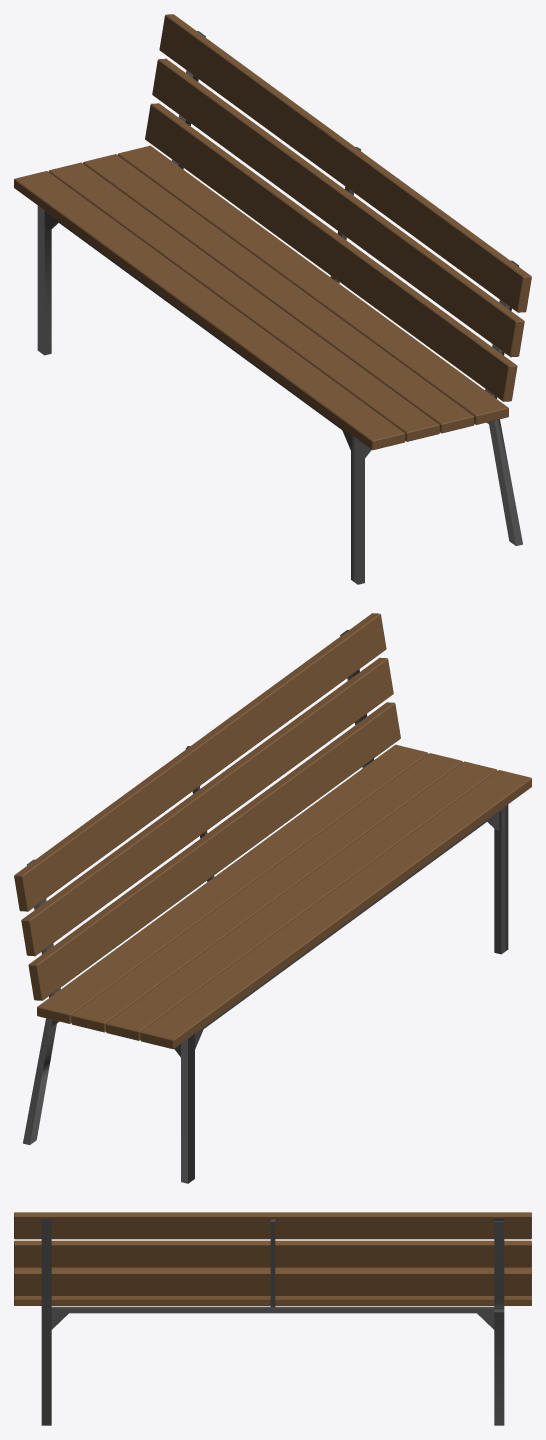
The picture shows the model from 3 angles, top to bottom: view 1: azimuth 30°, elevation 25°; view 2: azimuth 150°, elevation 25°; view 3: azimuth 270°, elevation 25°; orthographic projection. The views are drawn at different scales.
Parts seen in each view (by area): view 1: B_04_1; view 2: B_04_1; view 3: B_04_1.
Part boxes in pixels (x1,y1,x2,y2): B_04_1: (14, 14, 531, 584); B_04_1: (14, 613, 531, 1183); B_04_1: (14, 1212, 531, 1425).
Size of the model in its own units: 54.25 by 87.19 by 198.
